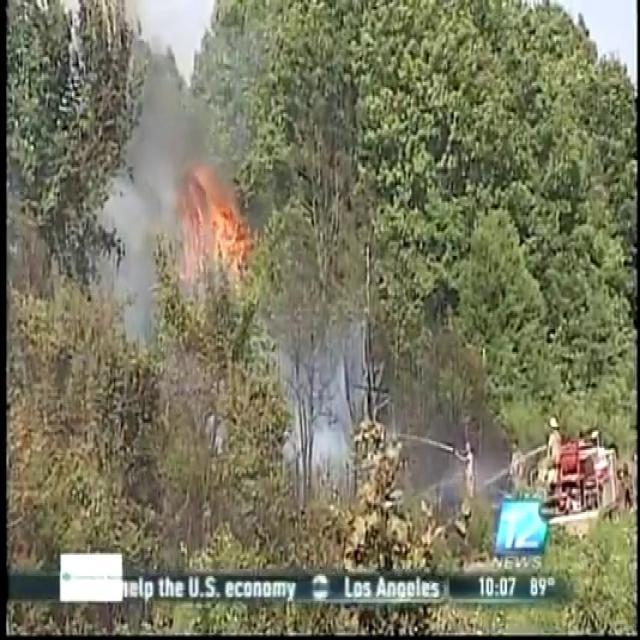Fire: (174, 149, 256, 303)
Smoke: (104, 28, 206, 329), (278, 304, 377, 489)
